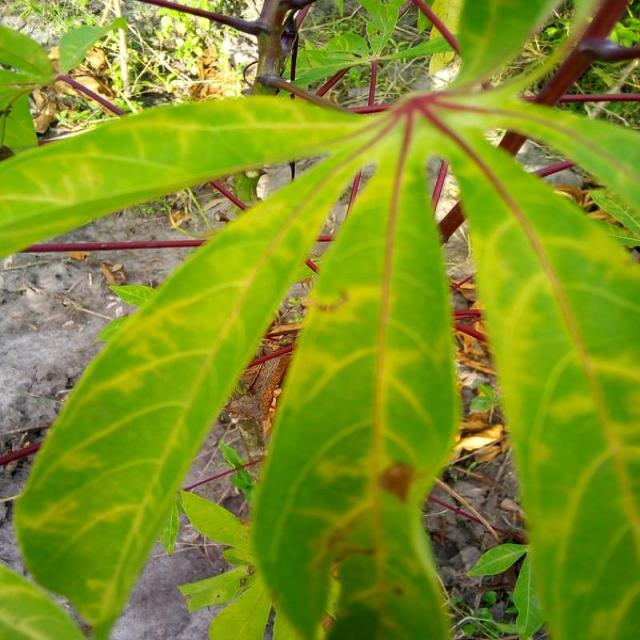cassava leaf: (4, 2, 638, 638), (10, 117, 371, 637), (250, 120, 459, 638), (444, 115, 638, 638)
